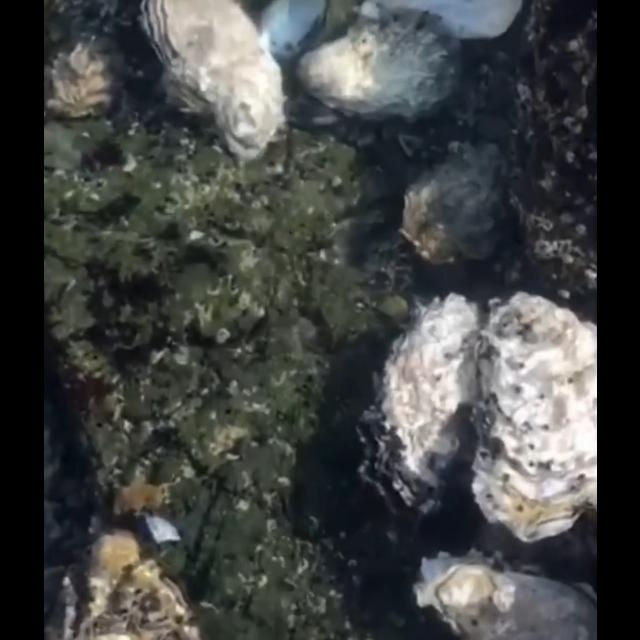Oyster-Closed: (470, 295, 596, 549), (140, 0, 286, 170), (296, 12, 458, 124), (44, 530, 198, 640), (412, 552, 596, 640), (398, 146, 510, 270), (43, 0, 130, 126), (360, 0, 522, 46), (256, 1, 328, 72)
Oyster-Open: (356, 293, 486, 527)
